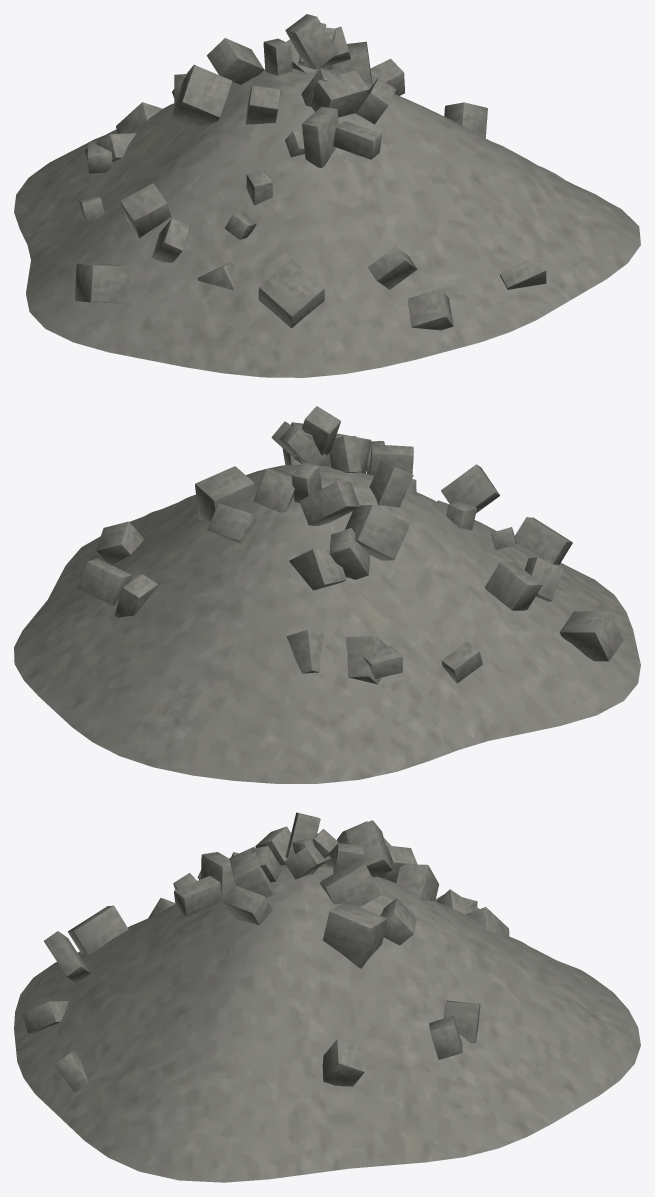
File: SER-DEM-002_lod1.glb
3 views of the same model, one above another, from view 1: azimuth 30°, elevation 25°; view 2: azimuth 150°, elevation 25°; view 3: azimuth 270°, elevation 25° (orthographic). The views are drawn at different scales.
Visible parts, largest first — view 1: SER-DEM-002_monte, SER-DEM-002_caco6, SER-DEM-002_caco31, SER-DEM-002_caco24, SER-DEM-002_caco12, SER-DEM-002_caco2, SER-DEM-002_caco15, SER-DEM-002_caco26, SER-DEM-002_caco33, SER-DEM-002_caco16, SER-DEM-002_caco29, SER-DEM-002_caco18 (+15 smaller); view 2: SER-DEM-002_monte, SER-DEM-002_caco31, SER-DEM-002_caco24, SER-DEM-002_caco8, SER-DEM-002_caco15, SER-DEM-002_caco33, SER-DEM-002_caco6, SER-DEM-002_caco35, SER-DEM-002_caco30, SER-DEM-002_caco18, SER-DEM-002_caco19, SER-DEM-002_caco25 (+15 smaller); view 3: SER-DEM-002_monte, SER-DEM-002_caco8, SER-DEM-002_caco3, SER-DEM-002_caco6, SER-DEM-002_caco28, SER-DEM-002_caco33, SER-DEM-002_caco29, SER-DEM-002_caco12, SER-DEM-002_caco14, SER-DEM-002_caco30, SER-DEM-002_caco18, SER-DEM-002_caco17 (+12 smaller).
Boxes of the visible parts, x1=… form: SER-DEM-002_monte: x1=14, y1=68, x2=640, y2=377; SER-DEM-002_caco6: x1=258, y1=258, x2=324, y2=328; SER-DEM-002_caco31: x1=171, y1=65, x2=232, y2=127; SER-DEM-002_caco24: x1=75, y1=263, x2=129, y2=303; SER-DEM-002_caco12: x1=311, y1=70, x2=369, y2=117; SER-DEM-002_caco2: x1=285, y1=14, x2=337, y2=69; SER-DEM-002_caco15: x1=120, y1=183, x2=171, y2=238; SER-DEM-002_caco26: x1=302, y1=106, x2=338, y2=167; SER-DEM-002_caco33: x1=207, y1=38, x2=264, y2=84; SER-DEM-002_caco16: x1=408, y1=288, x2=453, y2=330; SER-DEM-002_caco29: x1=333, y1=121, x2=381, y2=159; SER-DEM-002_caco18: x1=368, y1=247, x2=417, y2=289; SER-DEM-002_monte: x1=14, y1=464, x2=640, y2=783; SER-DEM-002_caco31: x1=345, y1=505, x2=409, y2=560; SER-DEM-002_caco24: x1=559, y1=611, x2=623, y2=661; SER-DEM-002_caco8: x1=195, y1=466, x2=255, y2=521; SER-DEM-002_caco15: x1=485, y1=562, x2=542, y2=610; SER-DEM-002_caco33: x1=299, y1=481, x2=360, y2=526; SER-DEM-002_caco6: x1=515, y1=517, x2=572, y2=564; SER-DEM-002_caco35: x1=77, y1=558, x2=132, y2=605; SER-DEM-002_caco30: x1=289, y1=545, x2=346, y2=590; SER-DEM-002_caco18: x1=441, y1=464, x2=499, y2=513; SER-DEM-002_caco19: x1=329, y1=528, x2=369, y2=579; SER-DEM-002_caco25: x1=369, y1=460, x2=413, y2=507; SER-DEM-002_monte: x1=14, y1=864, x2=640, y2=1182; SER-DEM-002_caco8: x1=322, y1=901, x2=387, y2=968; SER-DEM-002_caco3: x1=319, y1=860, x2=381, y2=906; SER-DEM-002_caco6: x1=67, y1=905, x2=128, y2=954; SER-DEM-002_caco28: x1=322, y1=1039, x2=364, y2=1086; SER-DEM-002_caco33: x1=345, y1=820, x2=392, y2=877; SER-DEM-002_caco29: x1=174, y1=875, x2=222, y2=916; SER-DEM-002_caco12: x1=229, y1=847, x2=273, y2=897; SER-DEM-002_caco14: x1=224, y1=885, x2=272, y2=925; SER-DEM-002_caco30: x1=396, y1=864, x2=439, y2=900; SER-DEM-002_caco18: x1=44, y1=931, x2=90, y2=983; SER-DEM-002_caco17: x1=380, y1=898, x2=416, y2=945.
Size of the model in its own units: 1.69 by 0.67 by 1.62.
Materials: 1 (1 with a texture image).
